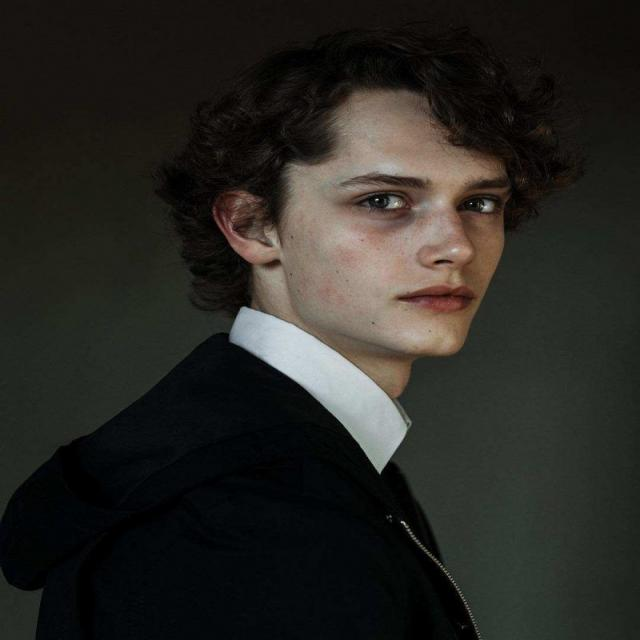earlobe: (209, 188, 278, 266)
